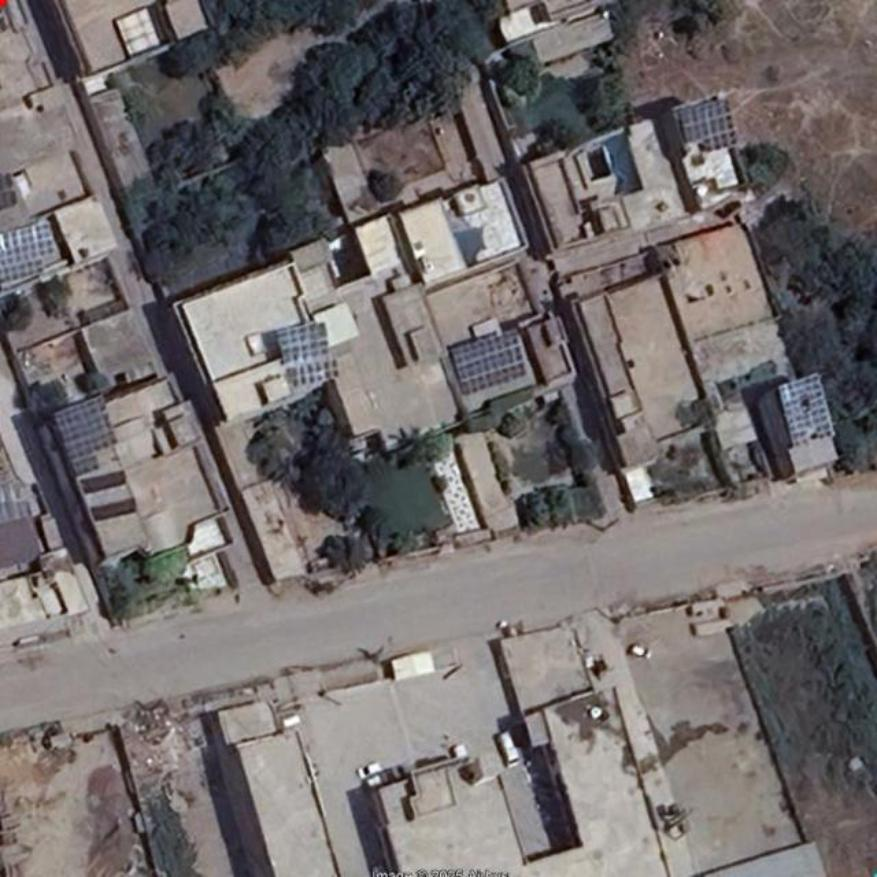Solarpanel: (454, 331, 526, 395), (779, 374, 837, 446), (0, 221, 59, 283), (678, 97, 736, 157), (278, 320, 327, 363), (290, 361, 338, 387)
